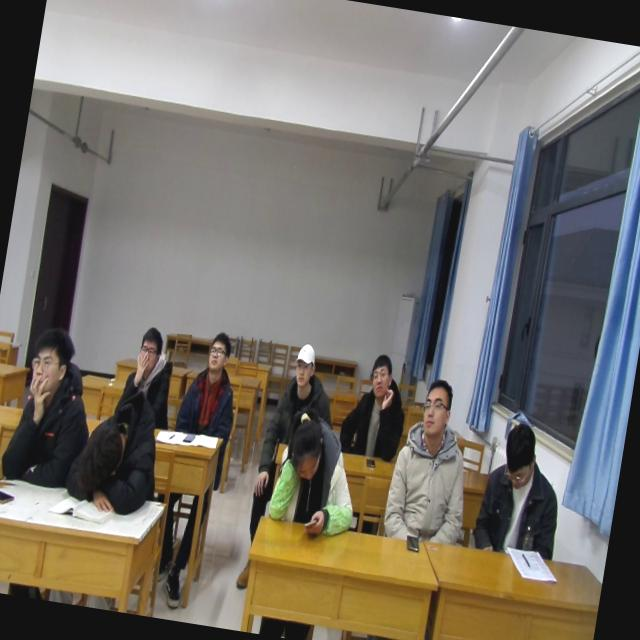bow: (61, 374, 175, 526), (264, 406, 372, 546)
down: (494, 412, 544, 492), (281, 412, 332, 490)
lookup: (22, 321, 77, 406), (416, 372, 458, 442), (132, 321, 168, 379), (363, 349, 400, 404), (289, 338, 320, 392), (204, 329, 234, 378)
sit: (377, 371, 486, 554), (0, 318, 106, 494), (468, 413, 577, 565), (334, 344, 416, 466), (170, 320, 249, 444), (264, 338, 339, 450), (108, 320, 184, 430)
